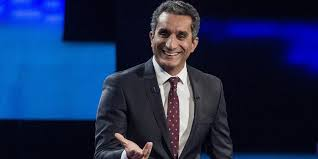middle_eastern_male: (153, 5, 194, 64)
